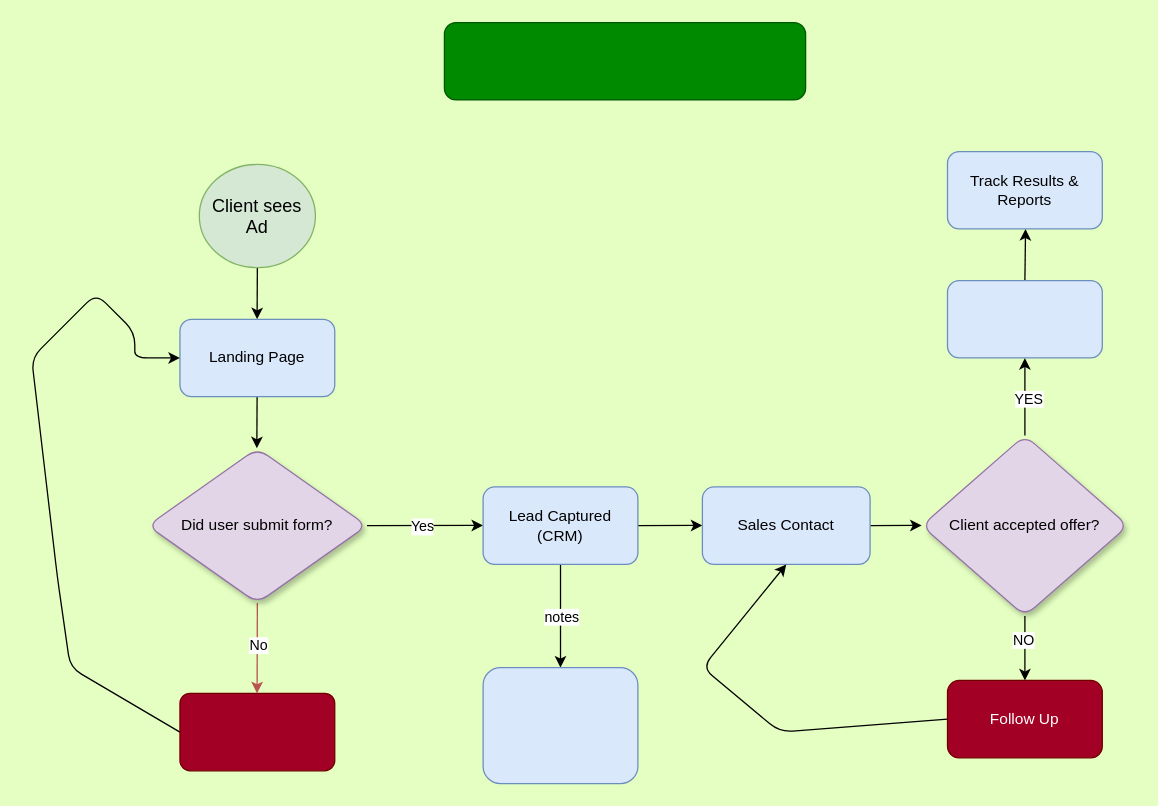
Some shapes in this 1158 by 806 pixel diagram are drawn without their labels. The centre of each missing label's shape, as x and y in pixels:
"Client Journey" goes at (x=624, y=60).
"Lead Captured (CRM) هنا هنستخدم nodeemailer عشان يبعت الايميل" goes at (x=560, y=725).
"Retargeting Ads" goes at (x=257, y=731).
"Start Campaign" goes at (x=1024, y=318).
